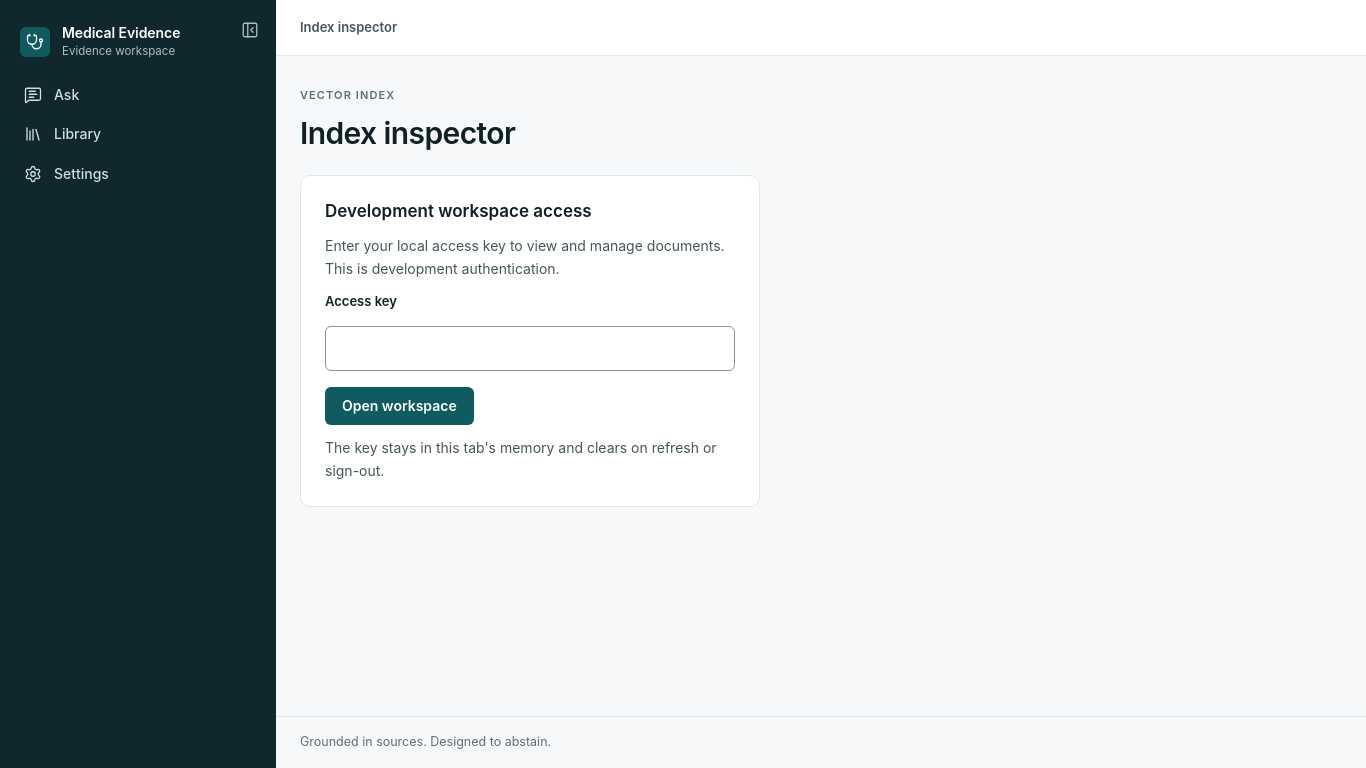
Test: M4 index inspector › lists point metadata without ever exposing a dense vector
Type "local-test-key" into the password field labelled "Access key" at (530,349), box [325,326,735,371]
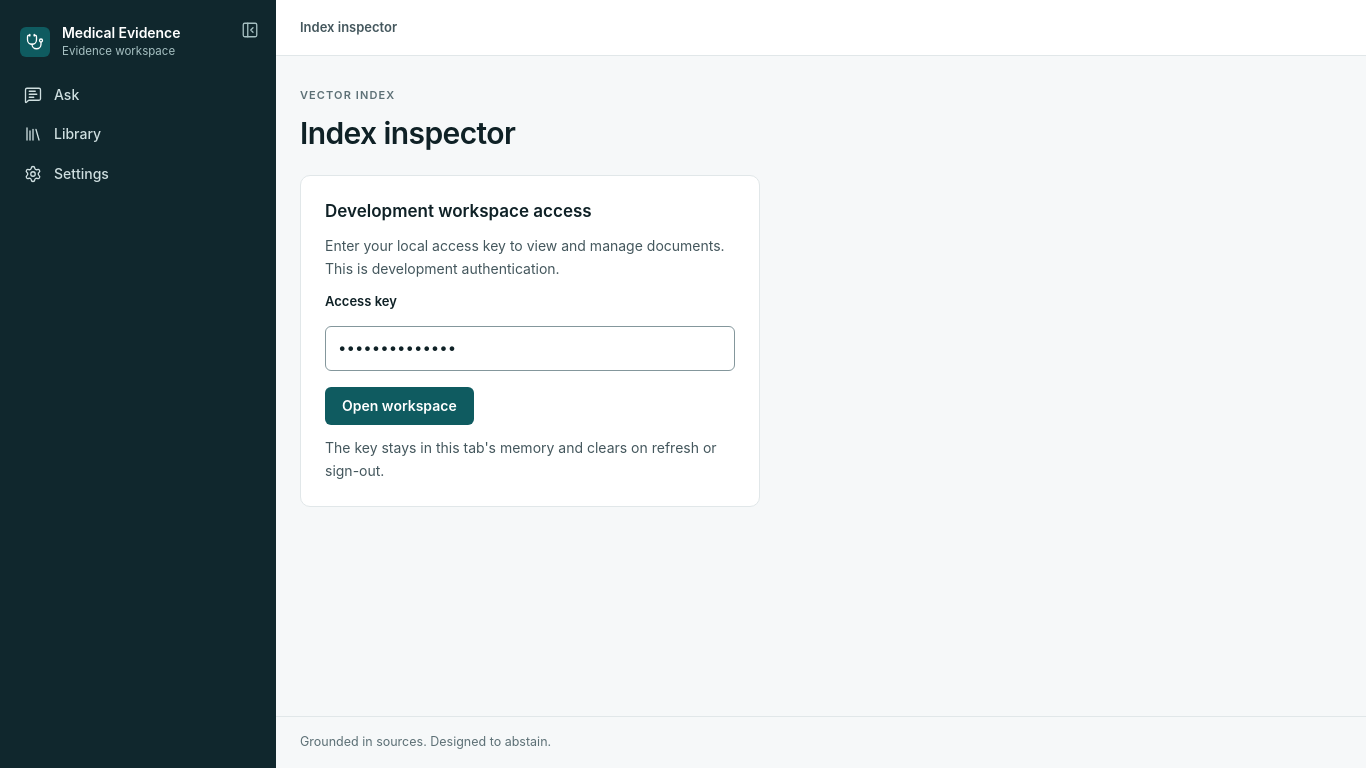
Click the button "Open workspace" at (399,406), box [325,387,474,425]
(page scrolled)
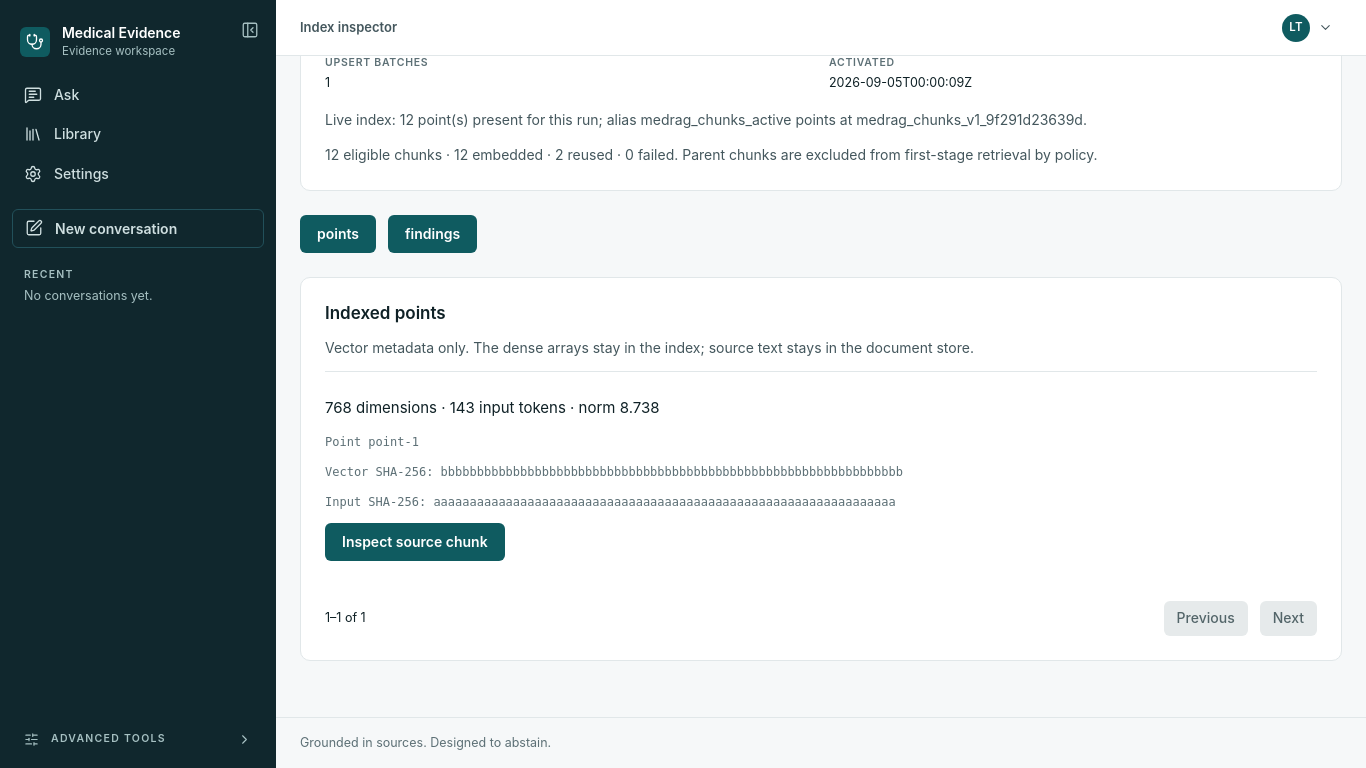
Expected: the button named "Account and workspace" is shown, [1277,8,1342,46]
Expected: the text "768 dimensions · 143 input tokens · norm 8.738" is shown, [325,398,660,417]
